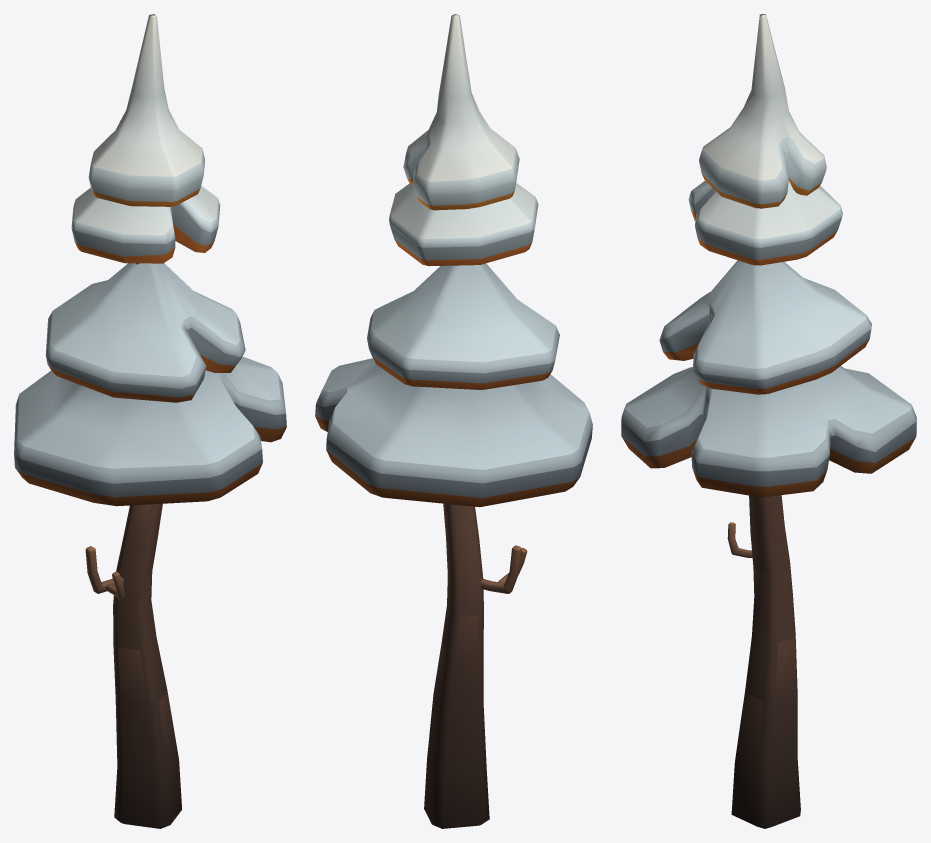
File: pine_tree_col2_02_snow.fbx
3 views of the same model, side by side, from view 1: azimuth 30°, elevation 25°; view 2: azimuth 150°, elevation 25°; view 3: azimuth 270°, elevation 25° (orthographic).
Parts seen in each view (by area): view 1: pine_tree_col2_02_snow; view 2: pine_tree_col2_02_snow; view 3: pine_tree_col2_02_snow.
Boxes of the visible parts, left/top/right/bottom form: pine_tree_col2_02_snow: left=14, top=14, right=286, bottom=828; pine_tree_col2_02_snow: left=315, top=14, right=592, bottom=828; pine_tree_col2_02_snow: left=621, top=14, right=916, bottom=828.
Bounding box in the file's own units: 479 × 1437 × 479.
1 material, 1 textured.
